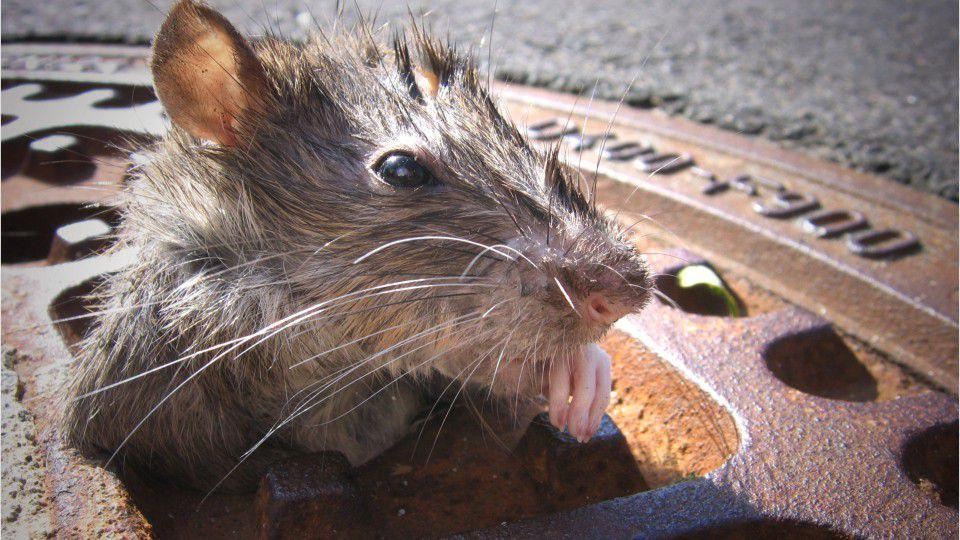rat: (60, 0, 656, 460)
